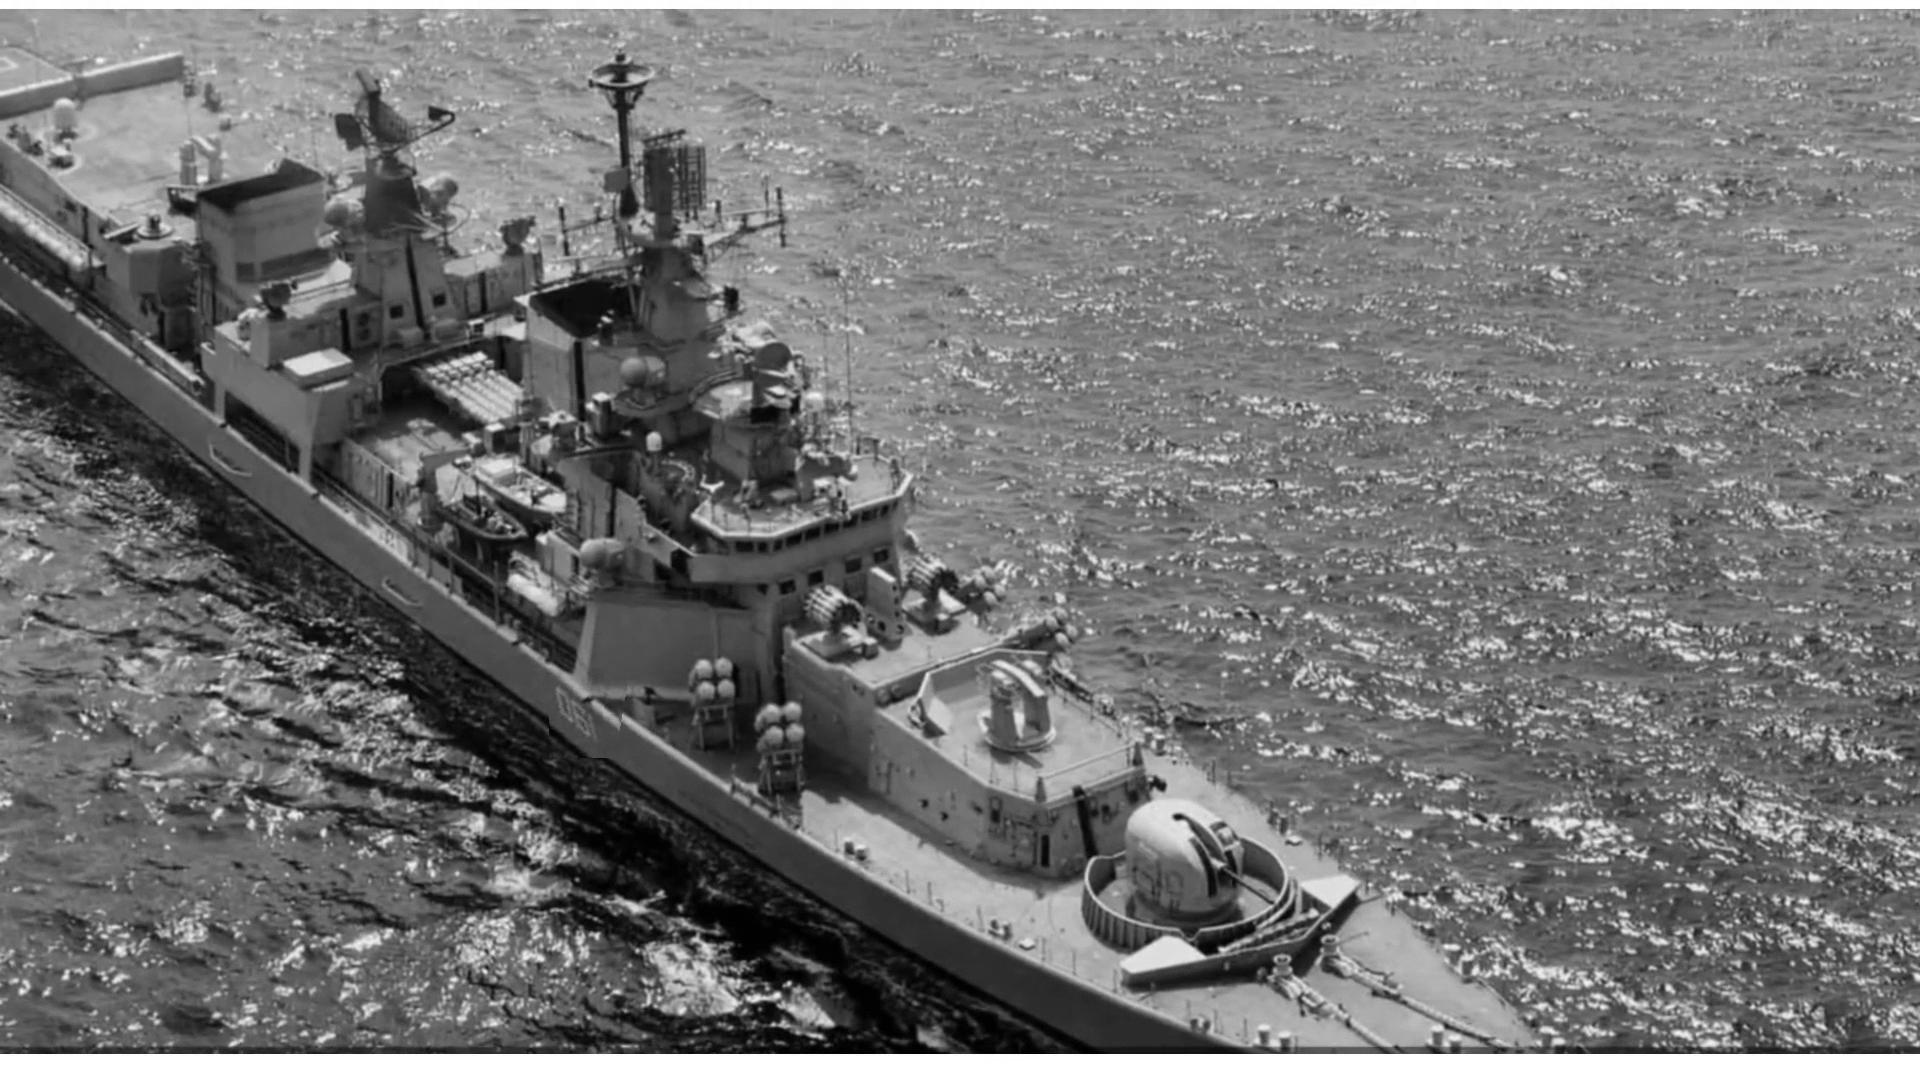OCR: (549, 676, 628, 758)
